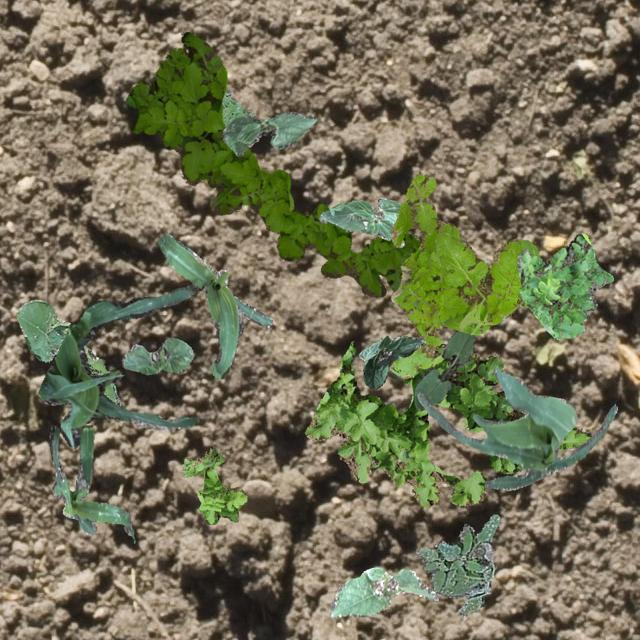crop: (38, 284, 196, 448), (416, 366, 616, 490), (158, 232, 272, 378), (15, 298, 120, 404), (49, 424, 132, 536), (328, 566, 436, 616), (414, 328, 474, 409), (222, 110, 314, 156), (318, 198, 402, 240), (358, 334, 423, 388), (120, 336, 192, 374)
weed: (126, 31, 420, 296), (304, 342, 590, 506), (386, 170, 538, 380), (516, 232, 612, 338), (414, 514, 498, 616), (180, 444, 246, 524), (220, 82, 253, 126)
